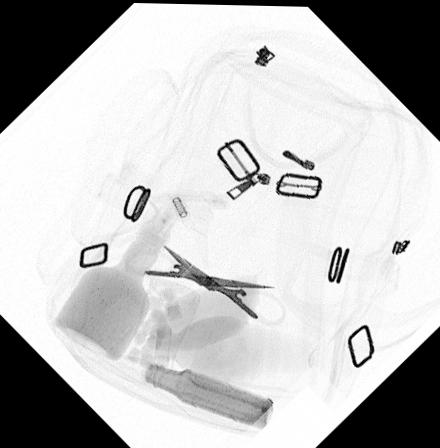Scissors: (121, 244, 287, 326)
